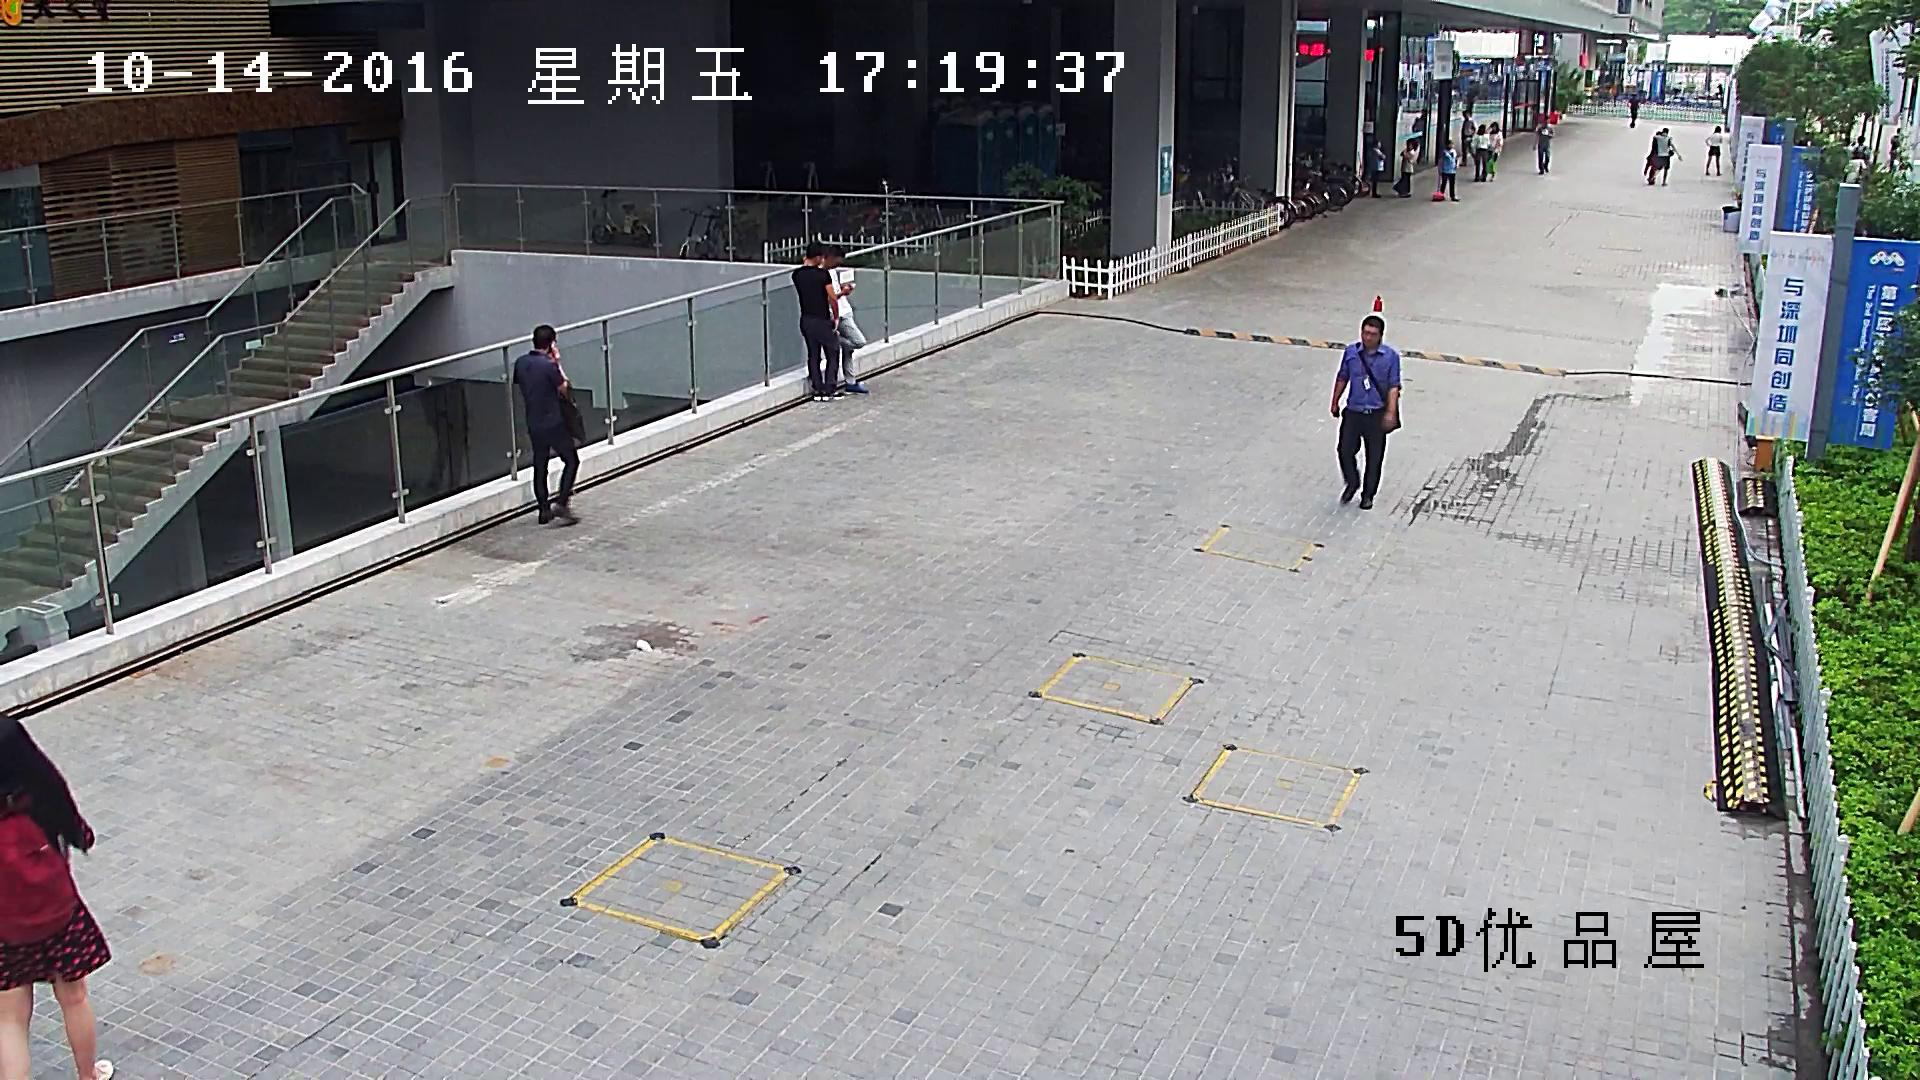person: (0, 712, 114, 1080), (513, 325, 586, 524), (1330, 315, 1401, 509), (792, 241, 846, 401), (818, 245, 871, 394), (1650, 127, 1683, 186), (1431, 141, 1458, 201), (1438, 140, 1459, 201), (1393, 140, 1414, 196), (1532, 121, 1553, 175), (1486, 122, 1503, 182), (1472, 124, 1489, 182), (1459, 110, 1476, 166), (1704, 126, 1723, 176), (1369, 140, 1385, 197), (1628, 94, 1639, 128)
